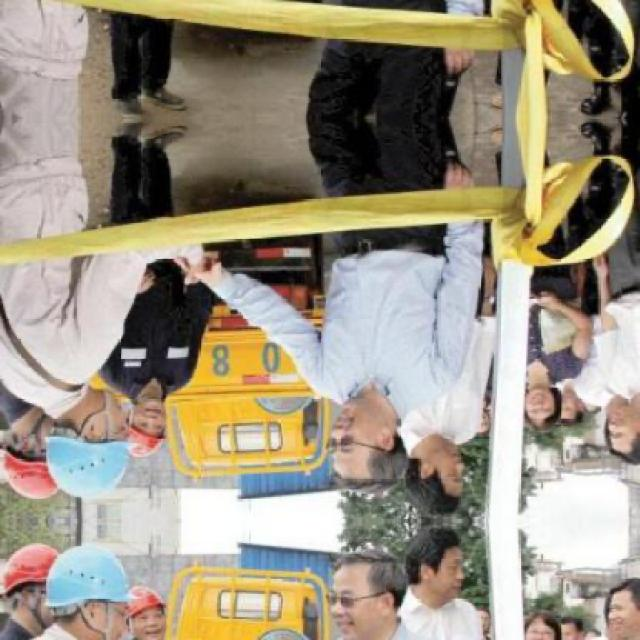con casco: (24, 396, 150, 497), (104, 386, 183, 466), (516, 358, 584, 432)
sin casco: (330, 346, 438, 520), (587, 390, 640, 474), (406, 444, 466, 511)
